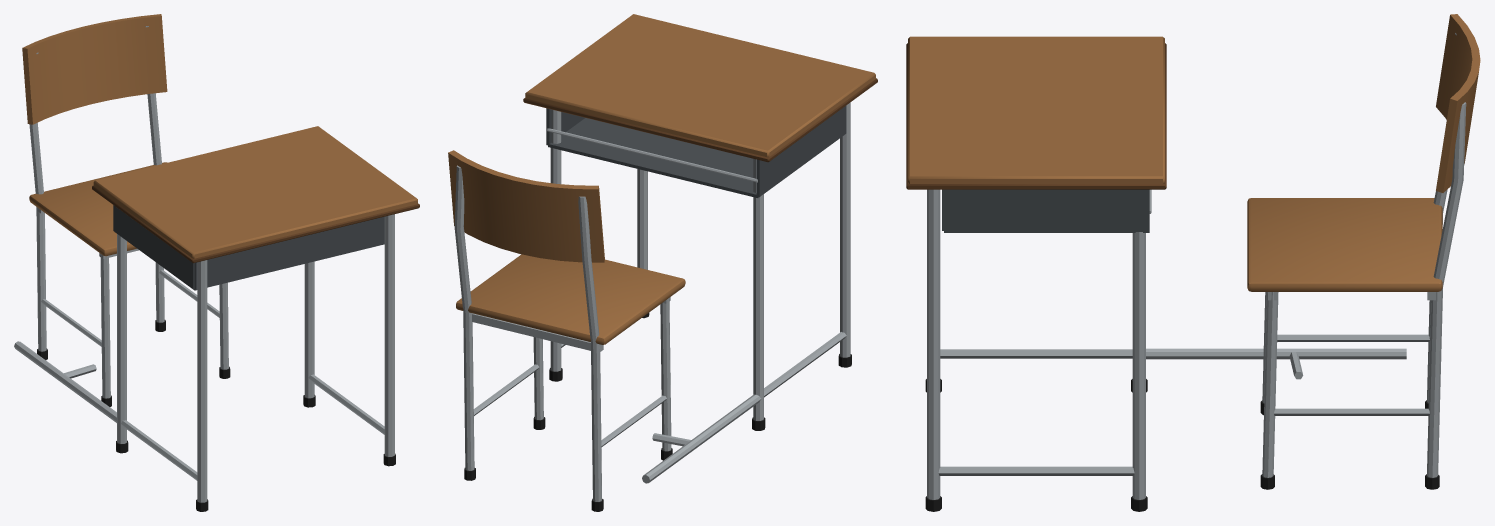
Rendered from student_desk.glb.
The picture shows the model from 3 angles, left to right: view 1: azimuth 30°, elevation 25°; view 2: azimuth 150°, elevation 25°; view 3: azimuth 270°, elevation 25°; orthographic projection. The views are drawn at different scales.
Parts seen in each view (by area): view 1: StudentDesk; view 2: StudentDesk; view 3: StudentDesk.
Boxes of the visible parts, bbox=[...] form: StudentDesk: bbox=[14, 14, 419, 511]; StudentDesk: bbox=[448, 14, 877, 511]; StudentDesk: bbox=[906, 14, 1480, 511].
Size of the model in its own units: 0.656 by 0.8441 by 1.12.
